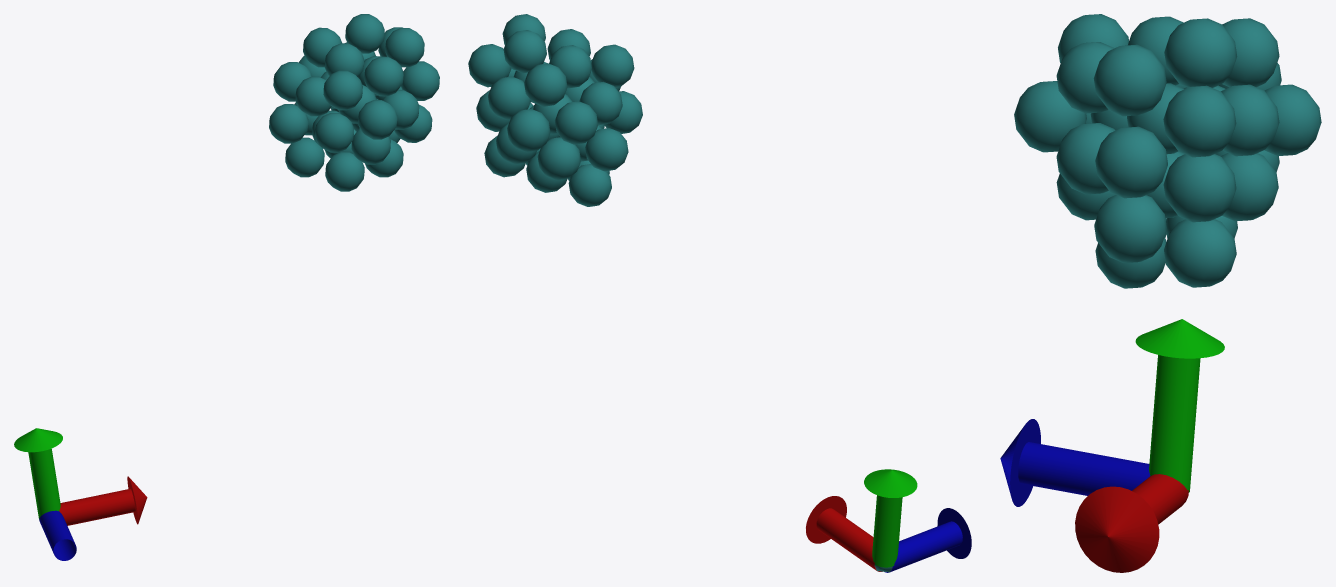
The model's file is vmdscene.obj.
The picture shows the model from 3 angles, left to right: view 1: azimuth 30°, elevation 25°; view 2: azimuth 150°, elevation 25°; view 3: azimuth 270°, elevation 25°; orthographic projection. The views are drawn at different scales.
Visible parts, largest first — view 1: vmd_mol0_rep0, vmd_axes; view 2: vmd_mol0_rep0, vmd_axes; view 3: vmd_mol0_rep0, vmd_axes.
Part boxes in pixels (x1=…): vmd_mol0_rep0: x1=269, y1=14, x2=439, y2=191; vmd_axes: x1=14, y1=428, x2=147, y2=560; vmd_mol0_rep0: x1=468, y1=14, x2=642, y2=206; vmd_axes: x1=806, y1=469, x2=971, y2=572; vmd_mol0_rep0: x1=1014, y1=14, x2=1321, y2=288; vmd_axes: x1=1000, y1=319, x2=1224, y2=572.
Bounding box in the file's own units: 1.23 × 1.21 × 0.4475.
